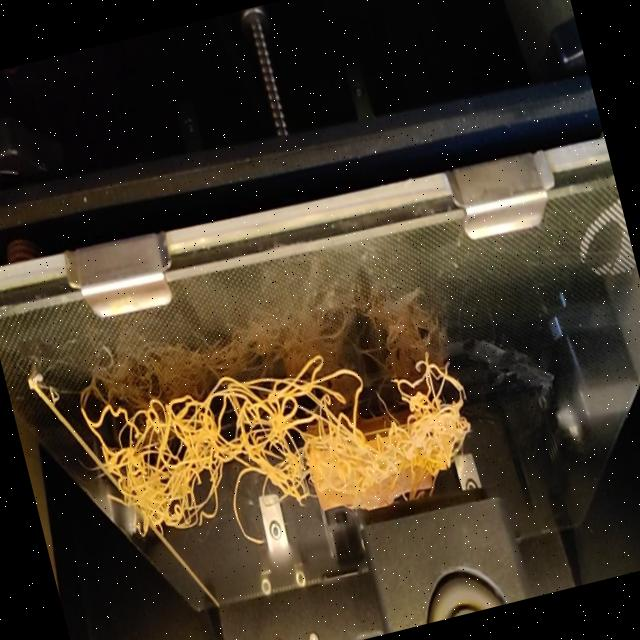spaghetti: (78, 352, 326, 583), (288, 328, 486, 510)
